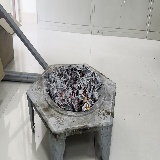fire: (85, 96, 90, 110)
